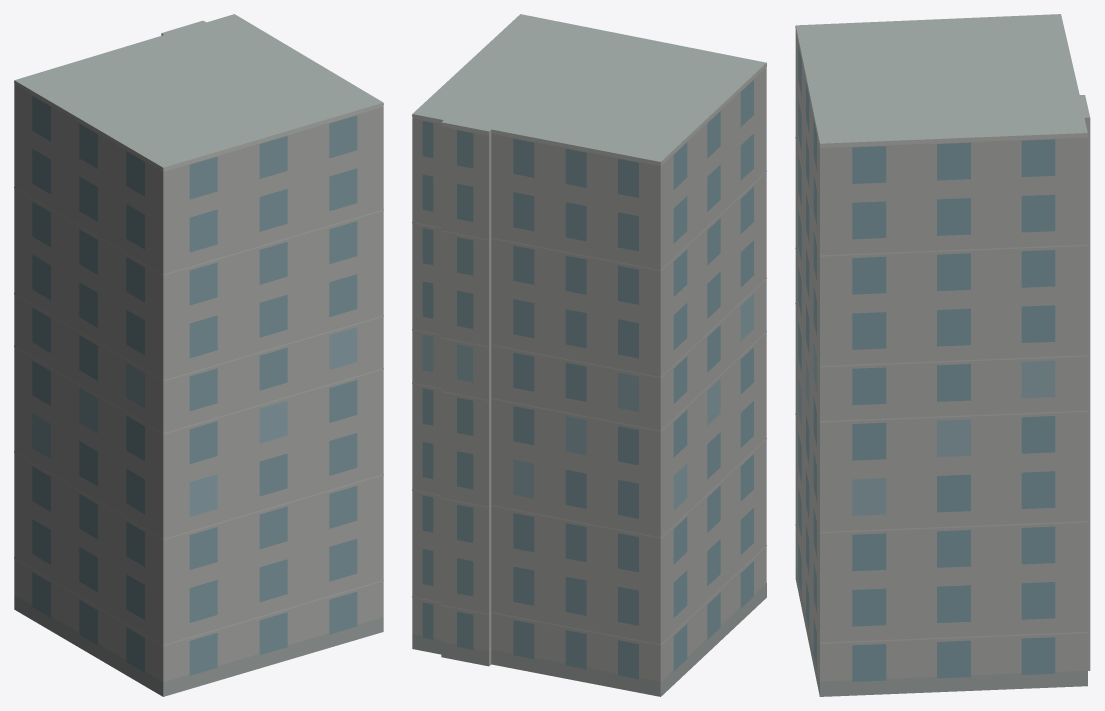
The model's file is survey-upis-32828211.glb.
3 views of the same model, side by side, from view 1: azimuth 30°, elevation 25°; view 2: azimuth 150°, elevation 25°; view 3: azimuth 270°, elevation 25° (orthographic). The views are drawn at different scales.
Visible parts, largest first — view 1: survey-upis-32828211.tmp; view 2: survey-upis-32828211.tmp; view 3: survey-upis-32828211.tmp.
Part boxes in pixels (x1,y1,x2,y2): survey-upis-32828211.tmp: [14, 14, 383, 696]; survey-upis-32828211.tmp: [412, 14, 766, 696]; survey-upis-32828211.tmp: [795, 14, 1090, 696].
Size of the model in its own units: 15.36 by 30.5 by 14.75.
